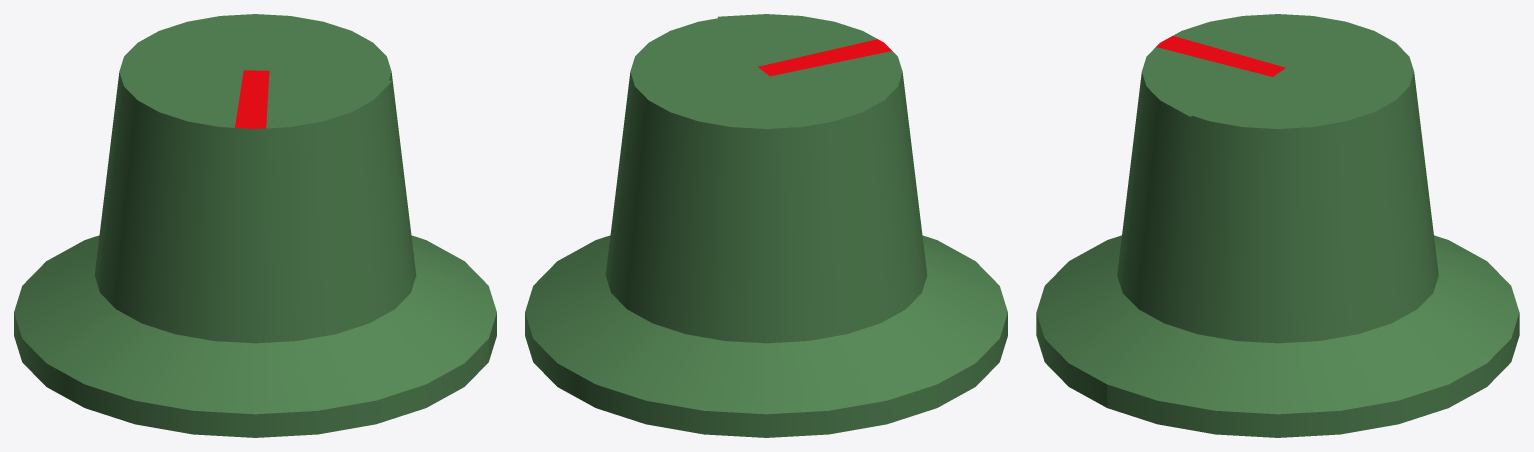
File: knob.glb
The picture shows the model from 3 angles, left to right: view 1: azimuth 30°, elevation 25°; view 2: azimuth 150°, elevation 25°; view 3: azimuth 270°, elevation 25°; orthographic projection.
Visible parts, largest first — view 1: potar; view 2: potar; view 3: potar.
Part boxes in pixels (<box>): potar: <box>14,14,496,437</box>; potar: <box>525,14,1007,437</box>; potar: <box>1036,14,1519,437</box>.
Size of the model in its own units: 8.01 by 4.84 by 8.01.
